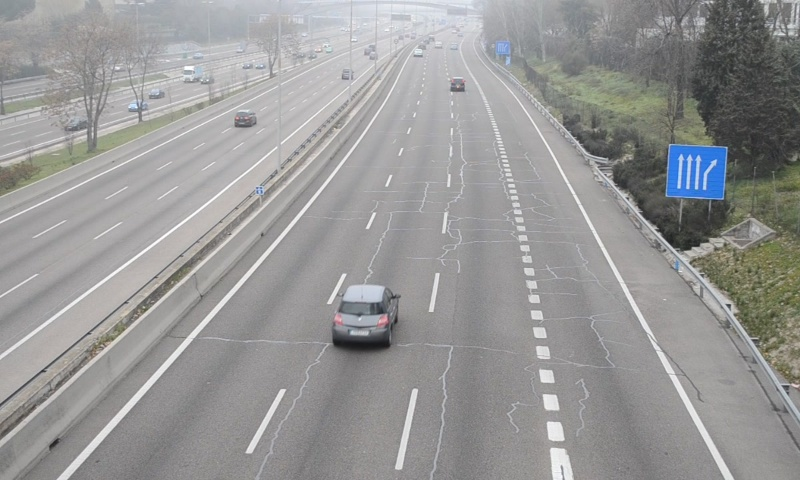car: (333, 284, 396, 345), (450, 76, 466, 92)
